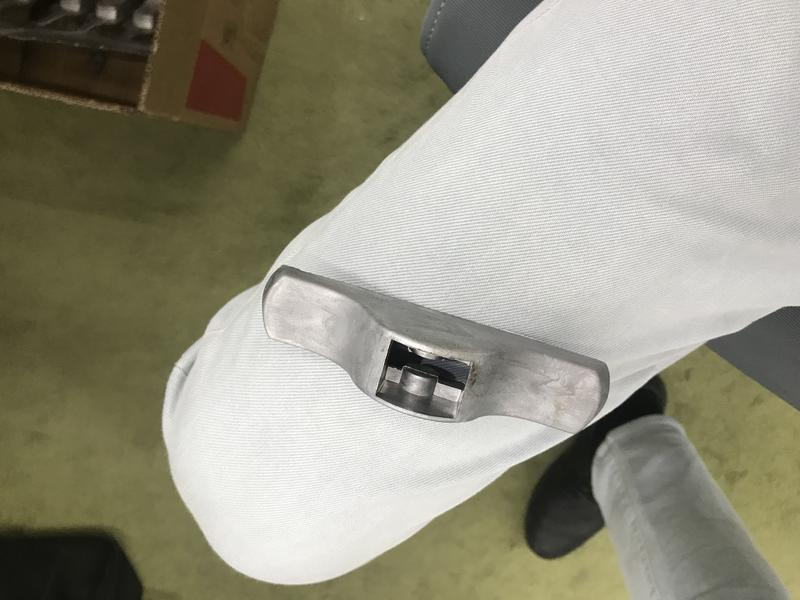zapchast: (253, 257, 619, 450)
